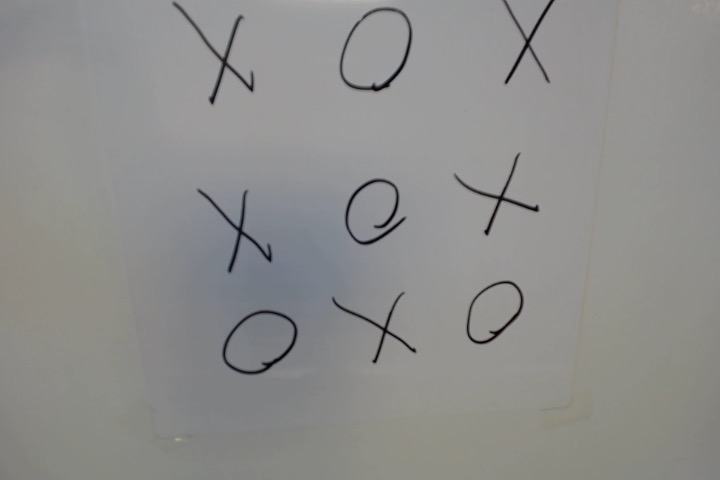0: (211, 298, 306, 382), (336, 7, 417, 94), (339, 176, 407, 250), (464, 279, 527, 349)
x: (170, 3, 263, 108), (448, 159, 546, 240), (194, 185, 277, 273), (328, 290, 421, 367), (490, 3, 563, 85)
